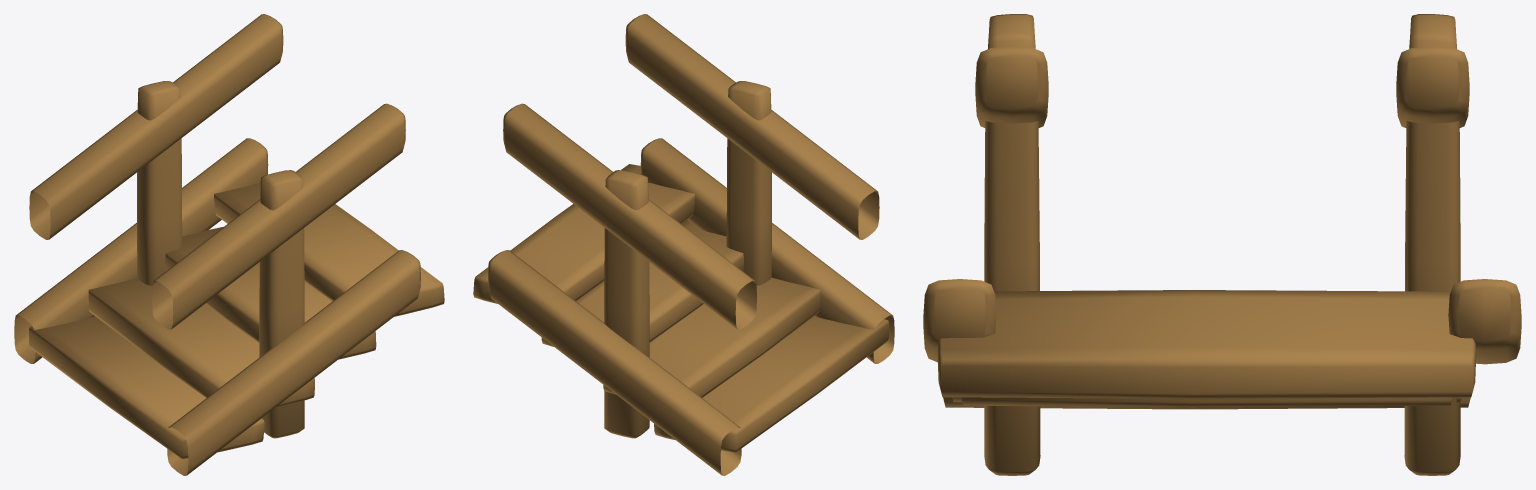
File: Stairs_Modular_End.glb
3 views of the same model, side by side, from view 1: azimuth 30°, elevation 25°; view 2: azimuth 150°, elevation 25°; view 3: azimuth 270°, elevation 25° (orthographic). The views are drawn at different scales.
Parts seen in each view (by area): view 1: Stairs_Modular_End; view 2: Stairs_Modular_End; view 3: Stairs_Modular_End.
Boxes of the visible parts, x1=… form: Stairs_Modular_End: x1=14, y1=14, x2=444, y2=475; Stairs_Modular_End: x1=473, y1=14, x2=894, y2=475; Stairs_Modular_End: x1=923, y1=14, x2=1521, y2=475.
Bounding box in the file's own units: 2.26 × 2.42 × 2.56.
